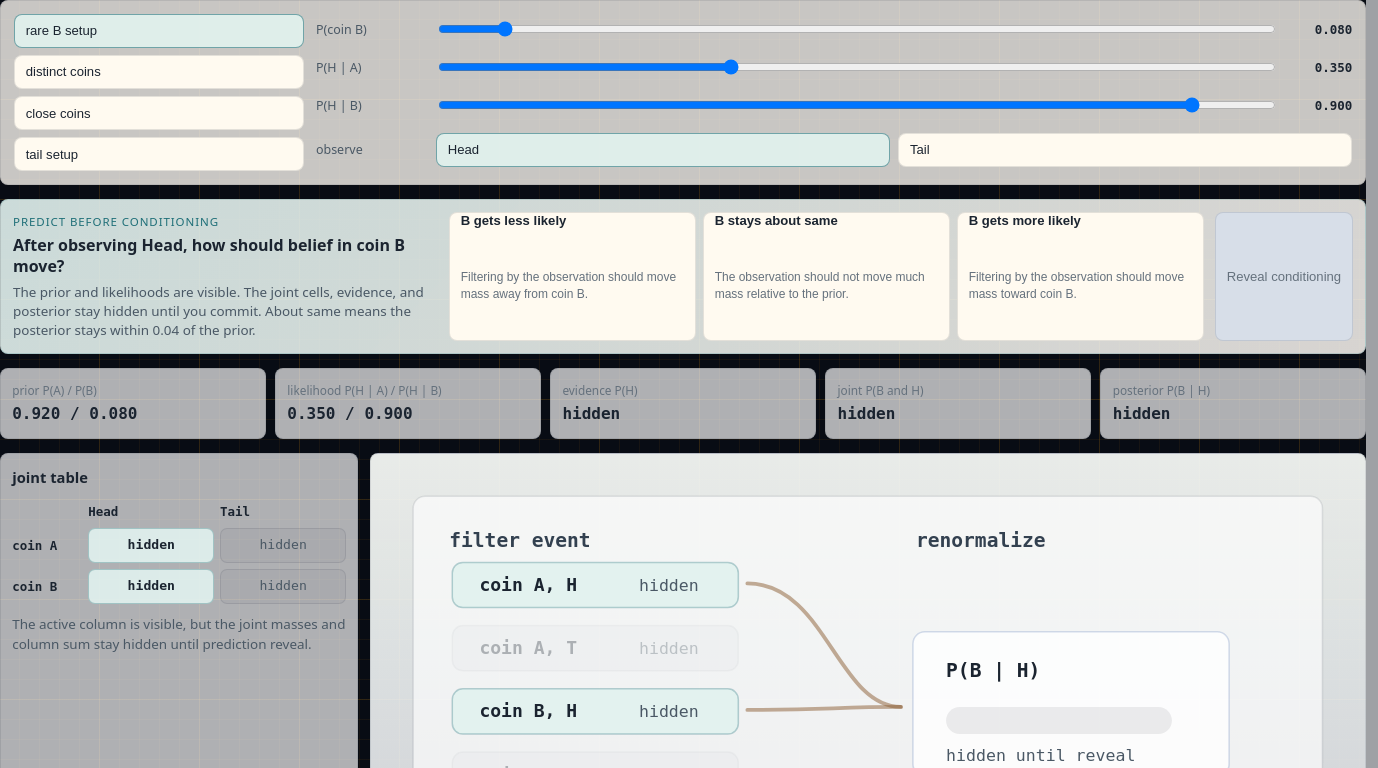
Scenario: ProbabilityBasicsViz prediction reveal › resets the reveal when the scenario changes
The image size is (1378, 768).
What coordinates should you click on to do the following:
click the button "B gets more likely"
I would click on:
 (1080, 276)
Its box is [957,212,1204,341].
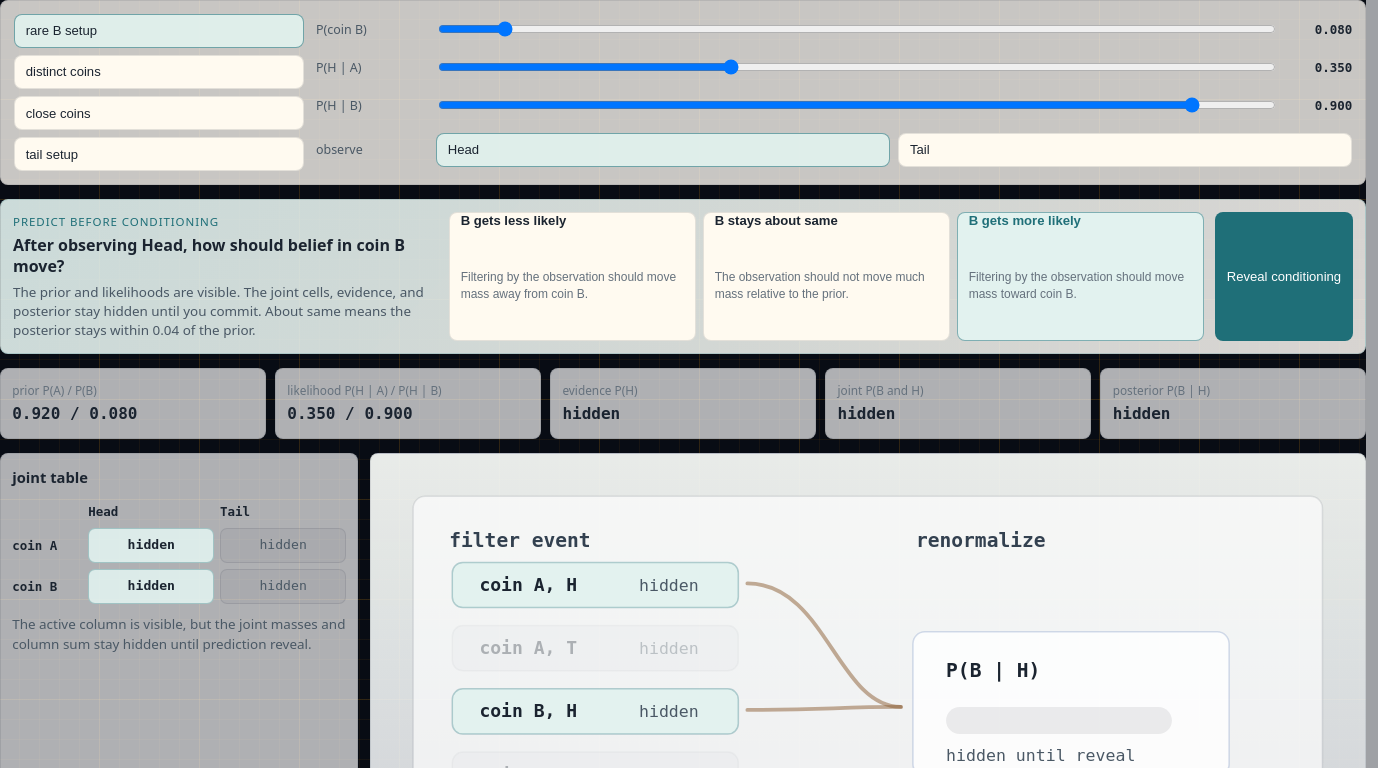
What coordinates should you click on to do the following:
click the button "Reveal conditioning"
I would click on:
 (1284, 276)
Its box is [1215,212,1353,341].
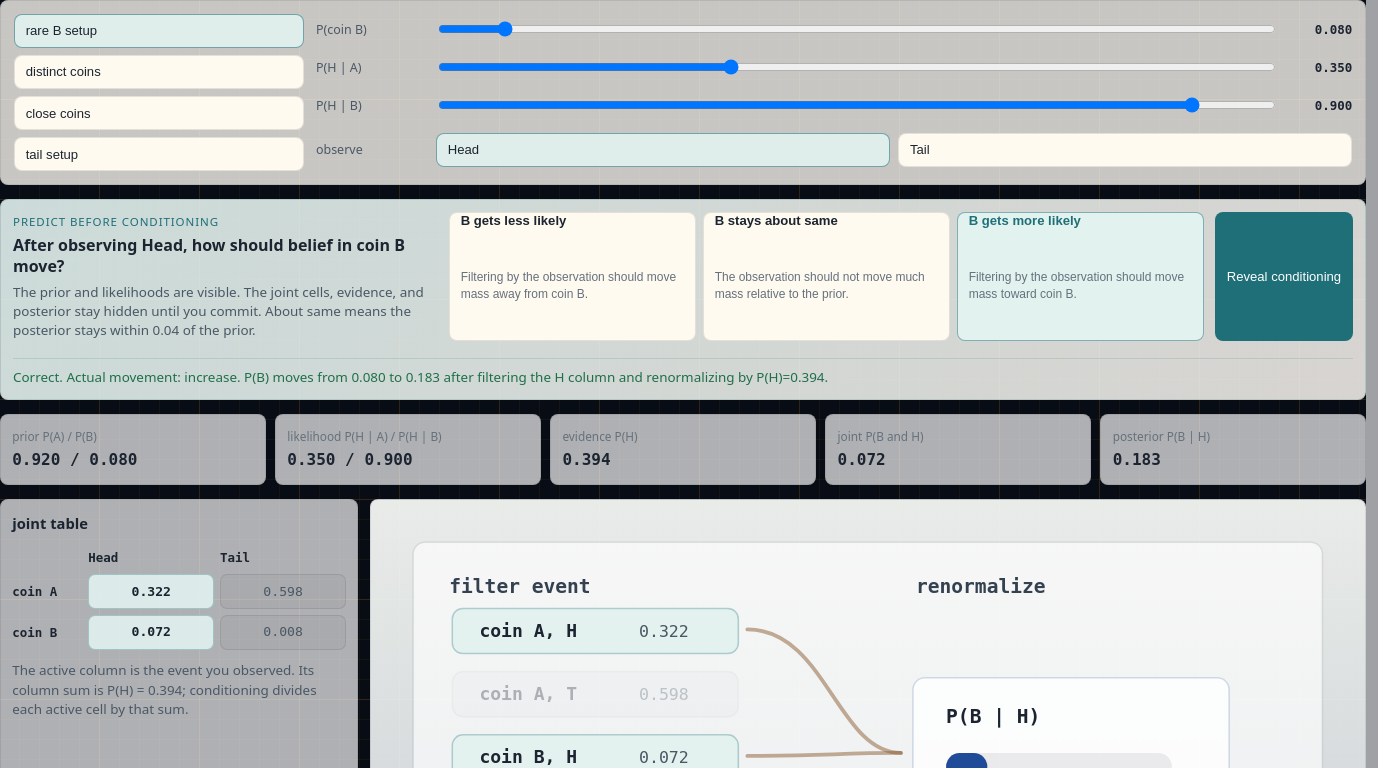
Expected: the text "P(B) moves from 0.080 to 0.183" is shown, [13,358,1353,387]
What coordinates should you click on to do the following:
click the button "tail setup"
I would click on:
 (52, 154)
Its box is [14,137,304,171].
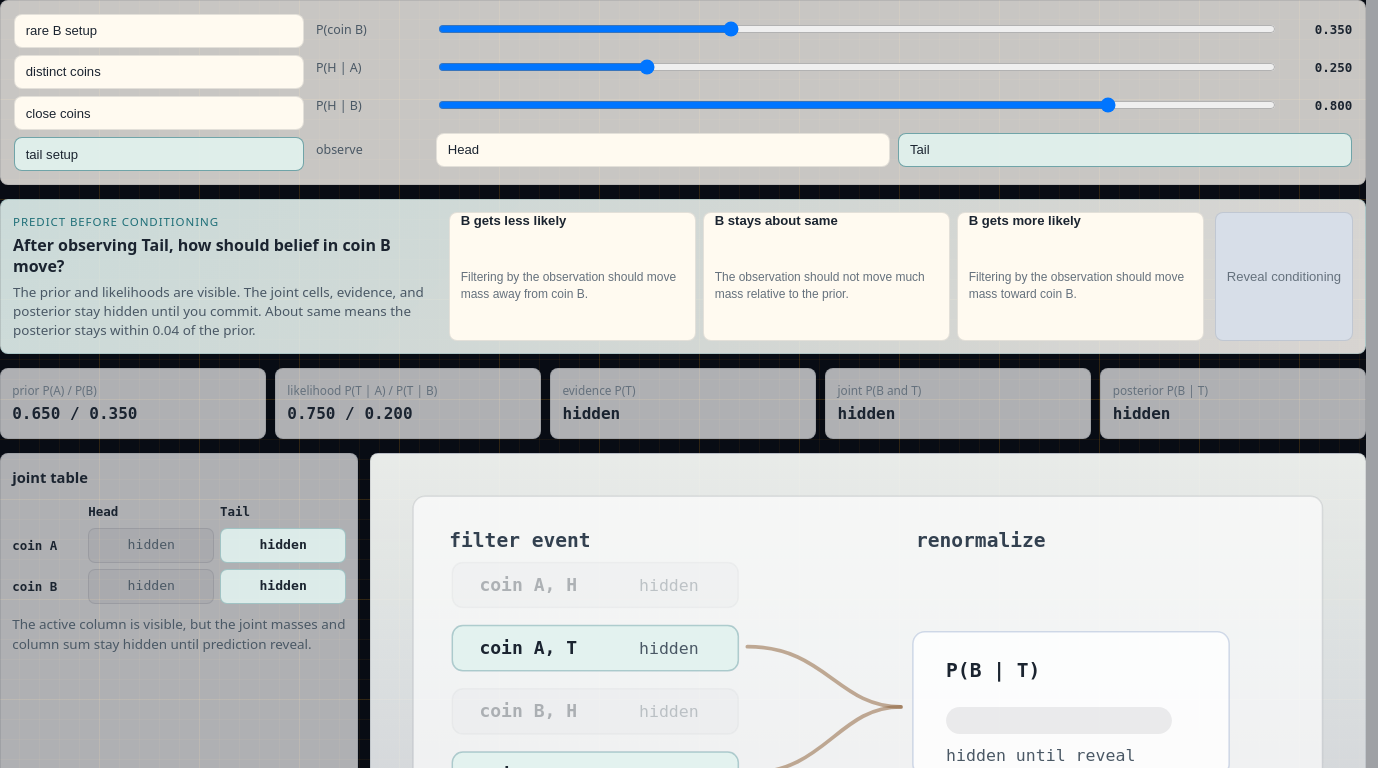
Expected: the text "posterior P(B | T)" is shown, [1113,382,1208,398]
Expected: the text "P(B) moves from 0.080 to 0.183" is gone
